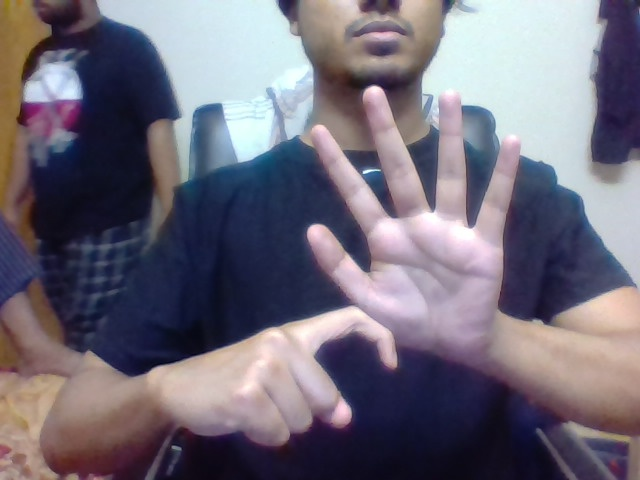R: (277, 299, 402, 429)
